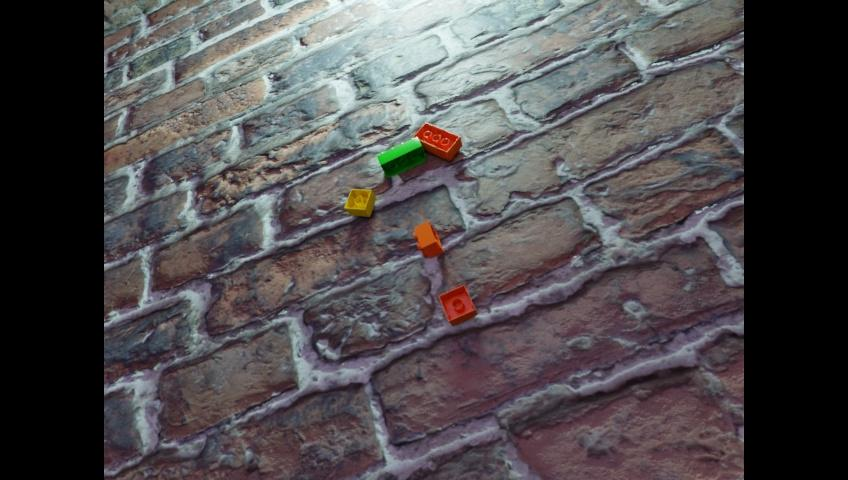2x2_orange: (438, 284, 476, 325), (413, 220, 442, 257)
2x2_yellow: (344, 188, 375, 216)
4x2_green: (376, 136, 426, 178)
4x2_orange: (412, 122, 461, 160)
